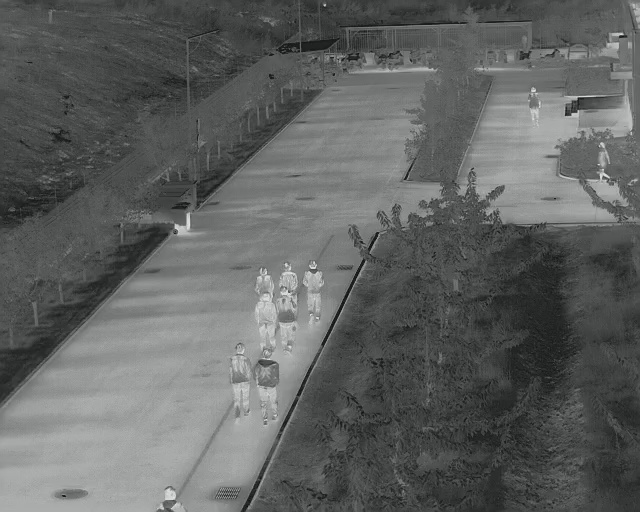person: (252, 345, 279, 426), (227, 343, 251, 421), (301, 259, 324, 325), (252, 292, 277, 348), (275, 287, 295, 352), (593, 141, 612, 184), (525, 85, 542, 130), (278, 261, 299, 287), (253, 266, 273, 293)
